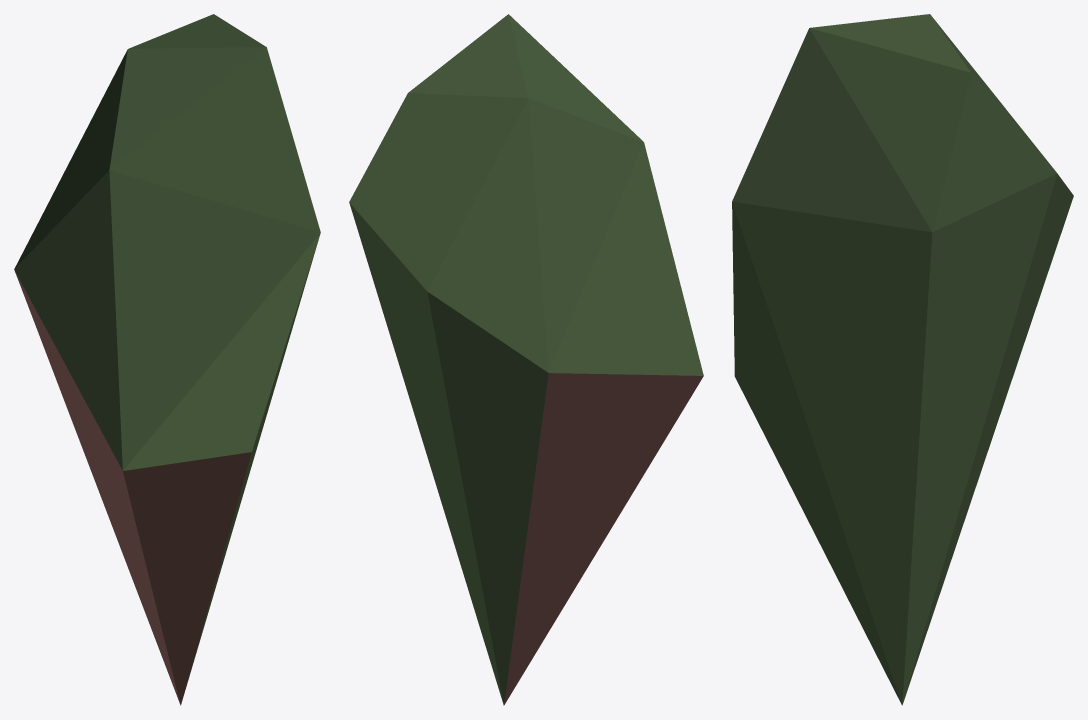
The model's file is CommonTree_3.lod4.glb.
The picture shows the model from 3 angles, left to right: view 1: azimuth 30°, elevation 25°; view 2: azimuth 150°, elevation 25°; view 3: azimuth 270°, elevation 25°; orthographic projection. The views are drawn at different scales.
Parts seen in each view (by area): view 1: CommonTree_3; view 2: CommonTree_3; view 3: CommonTree_3.
Part boxes in pixels (left/top/right/bottom): CommonTree_3: left=14, top=14, right=320, bottom=705; CommonTree_3: left=349, top=14, right=703, bottom=705; CommonTree_3: left=732, top=14, right=1073, bottom=705.
Bounding box in the file's own units: 1.28 × 3.45 × 1.53.
